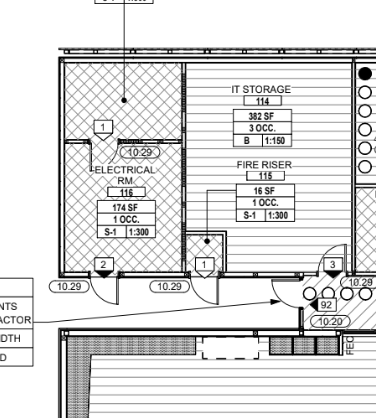door: (84, 138, 127, 177), (87, 273, 123, 309), (189, 274, 224, 307), (316, 241, 349, 274), (271, 277, 303, 307)
